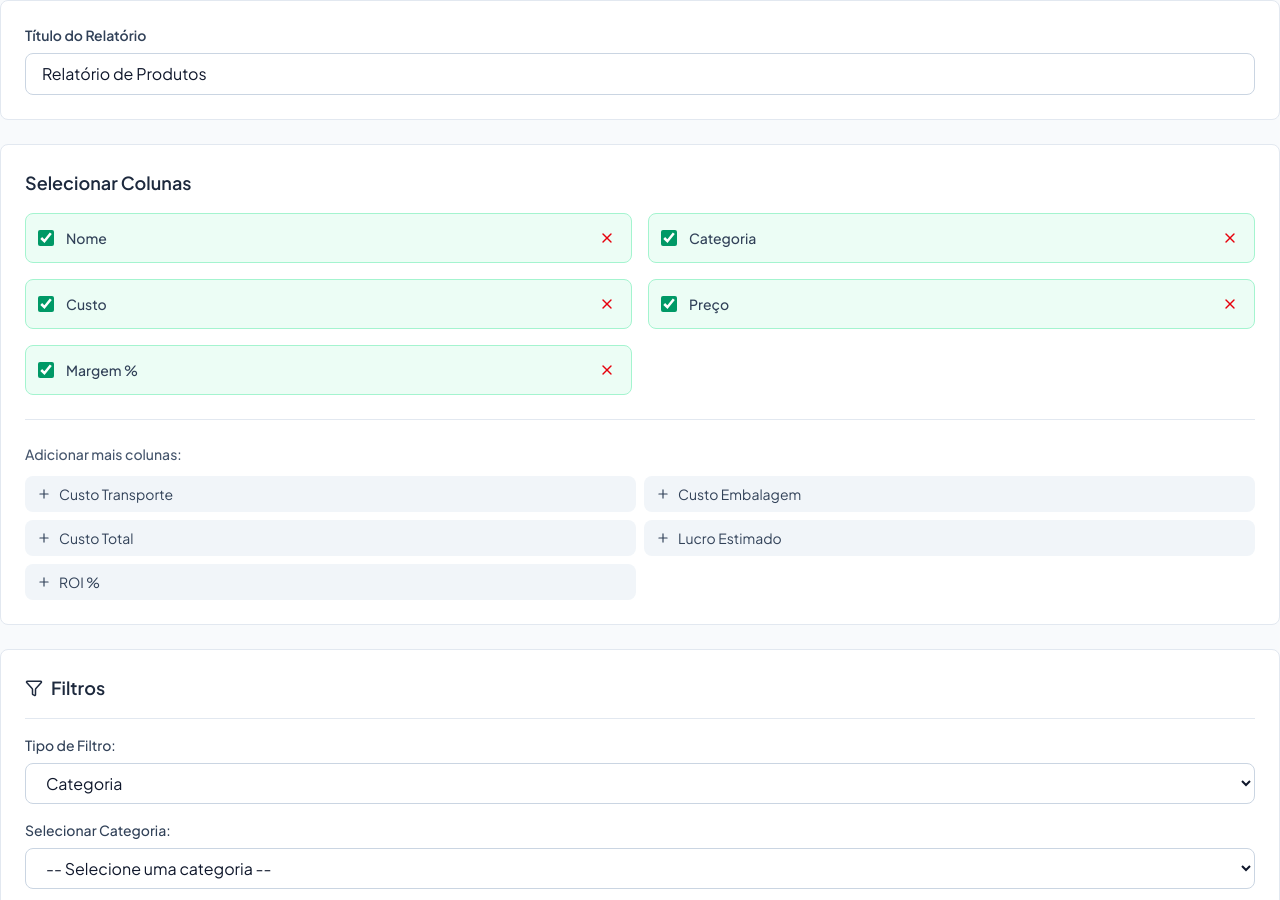
Test: ReportBuilder - Filter Functionality › Adding Filters › should add ROI range filter
Select "Faixa de ROI" in the dropdown below "Tipo de Filtro:" at (640, 784), box top-left (25, 763), bottom-right (1255, 804)
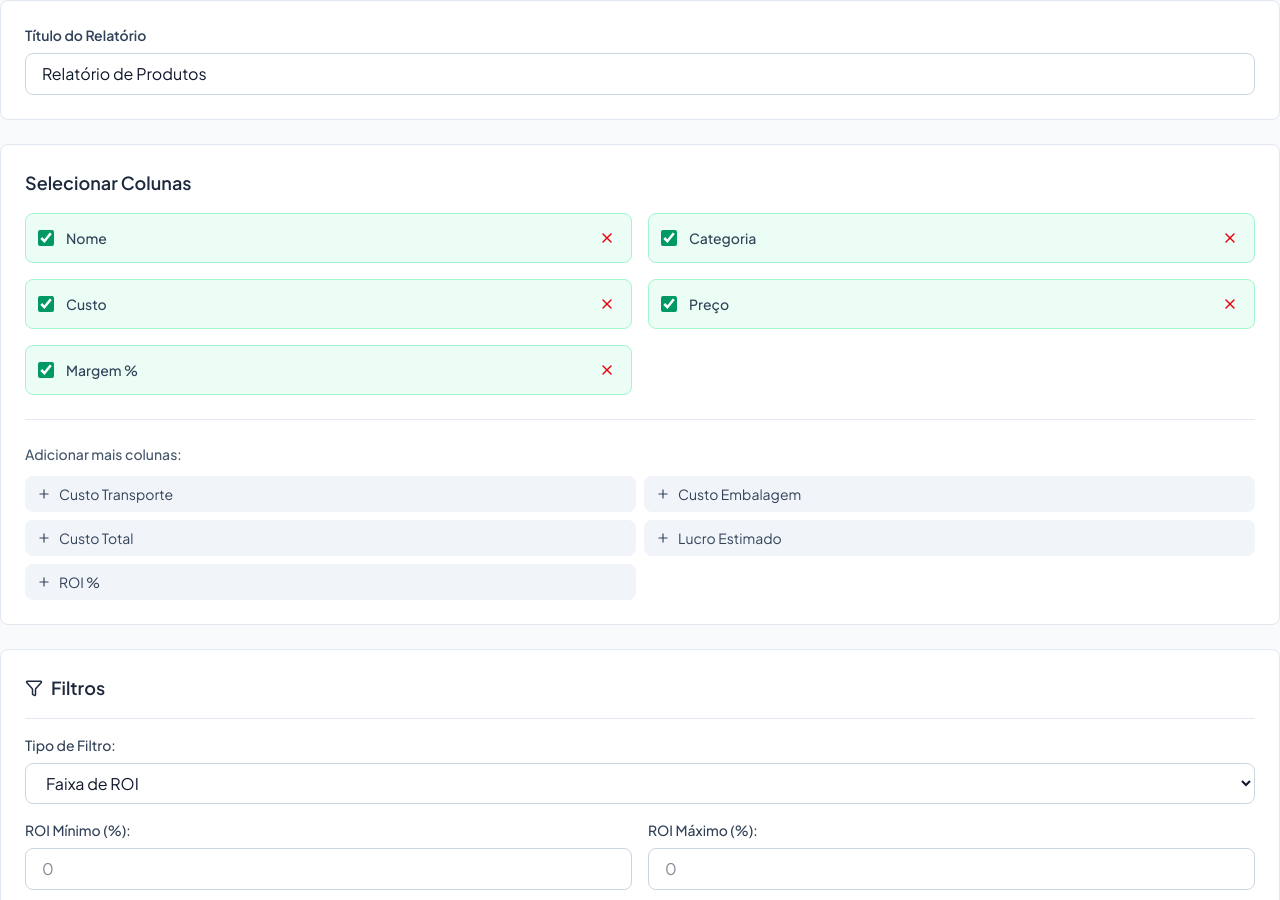
Type "30" into the number field labelled "ROI Mínimo (%):".
click(328, 869); type("30")  # box top-left (25, 848), bottom-right (632, 890)
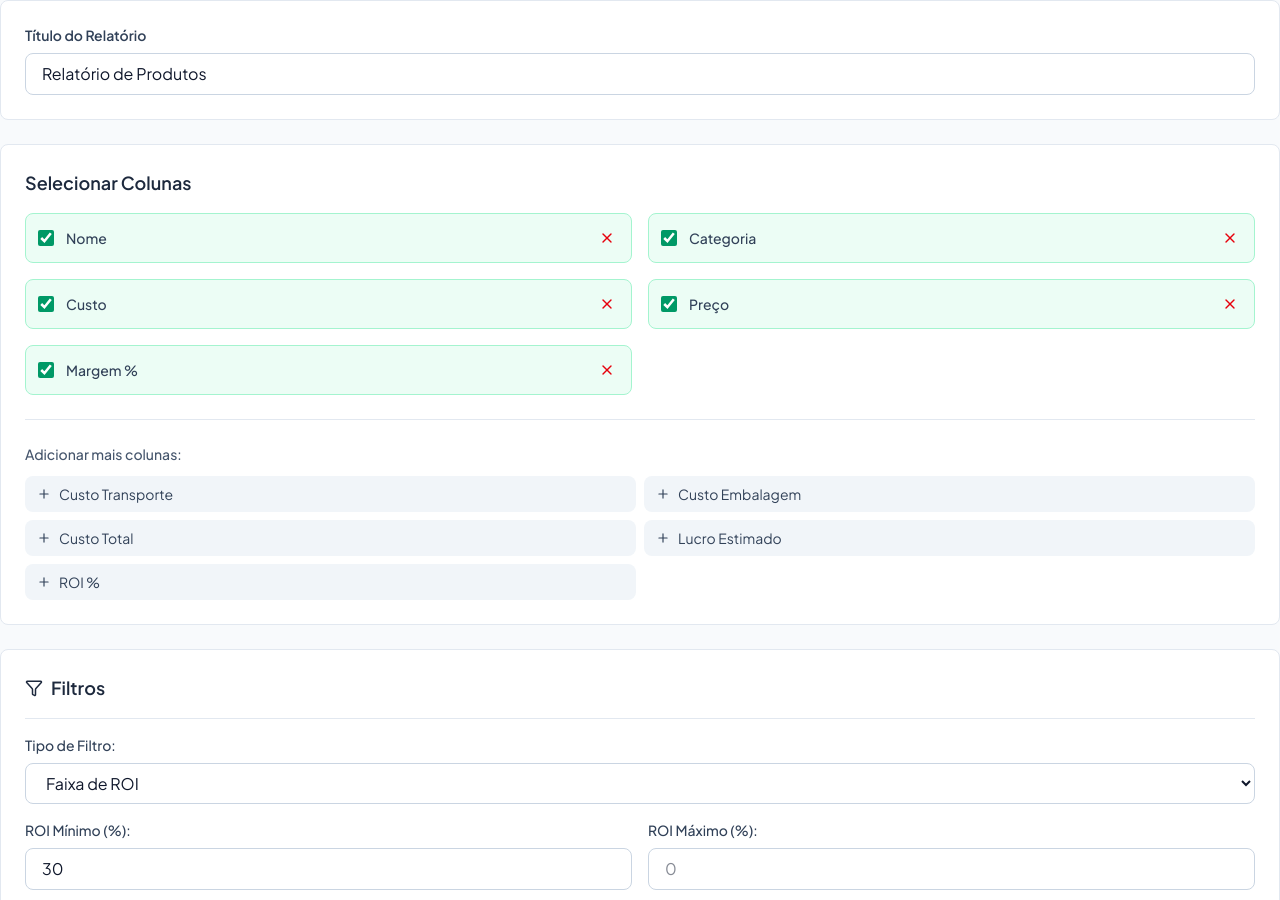
Type "50" into the number field labelled "ROI Máximo (%):".
click(952, 869); type("50")  # box top-left (648, 848), bottom-right (1255, 890)
(page scrolled)
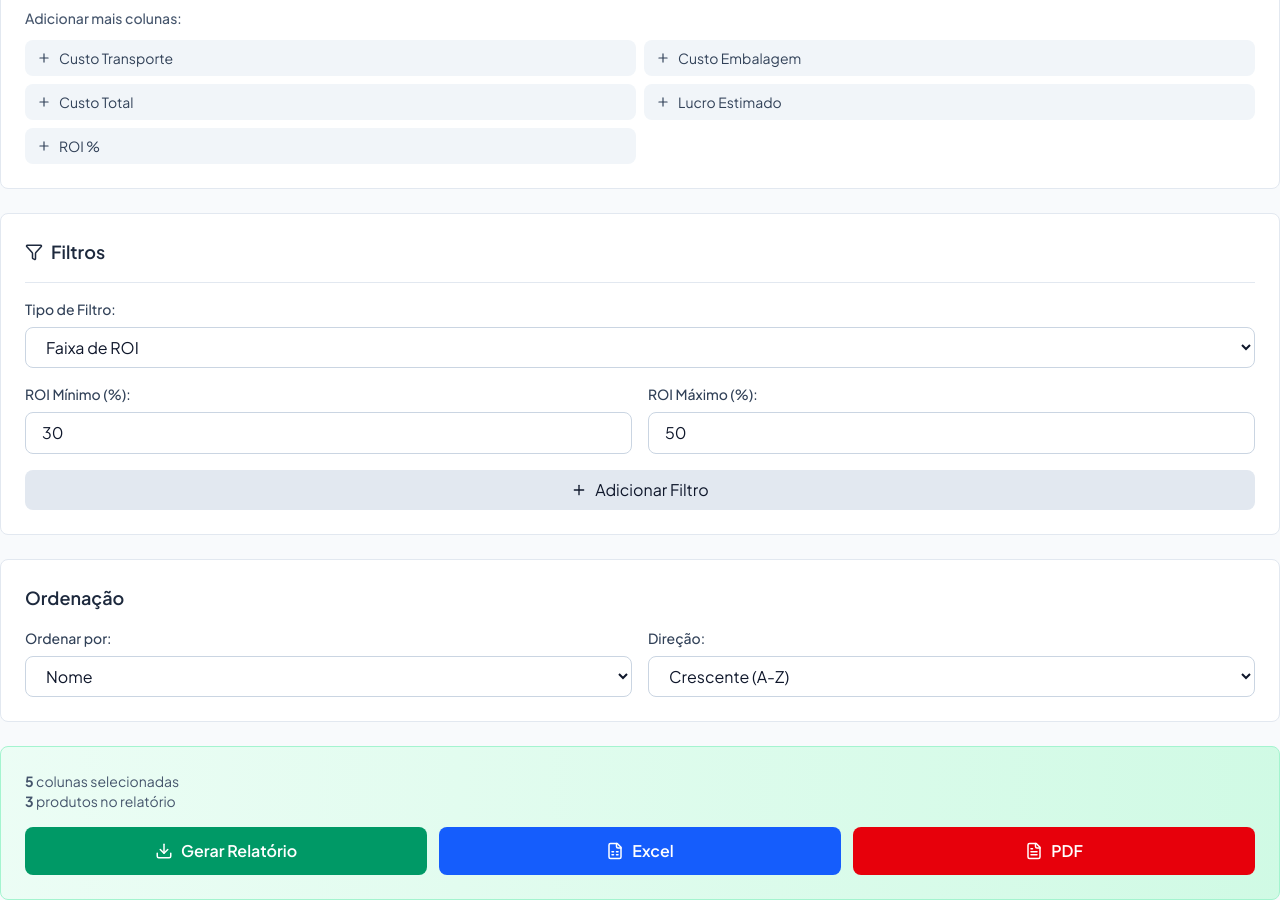
Click the button "Adicionar Filtro".
click(640, 490)  # box top-left (25, 470), bottom-right (1255, 510)
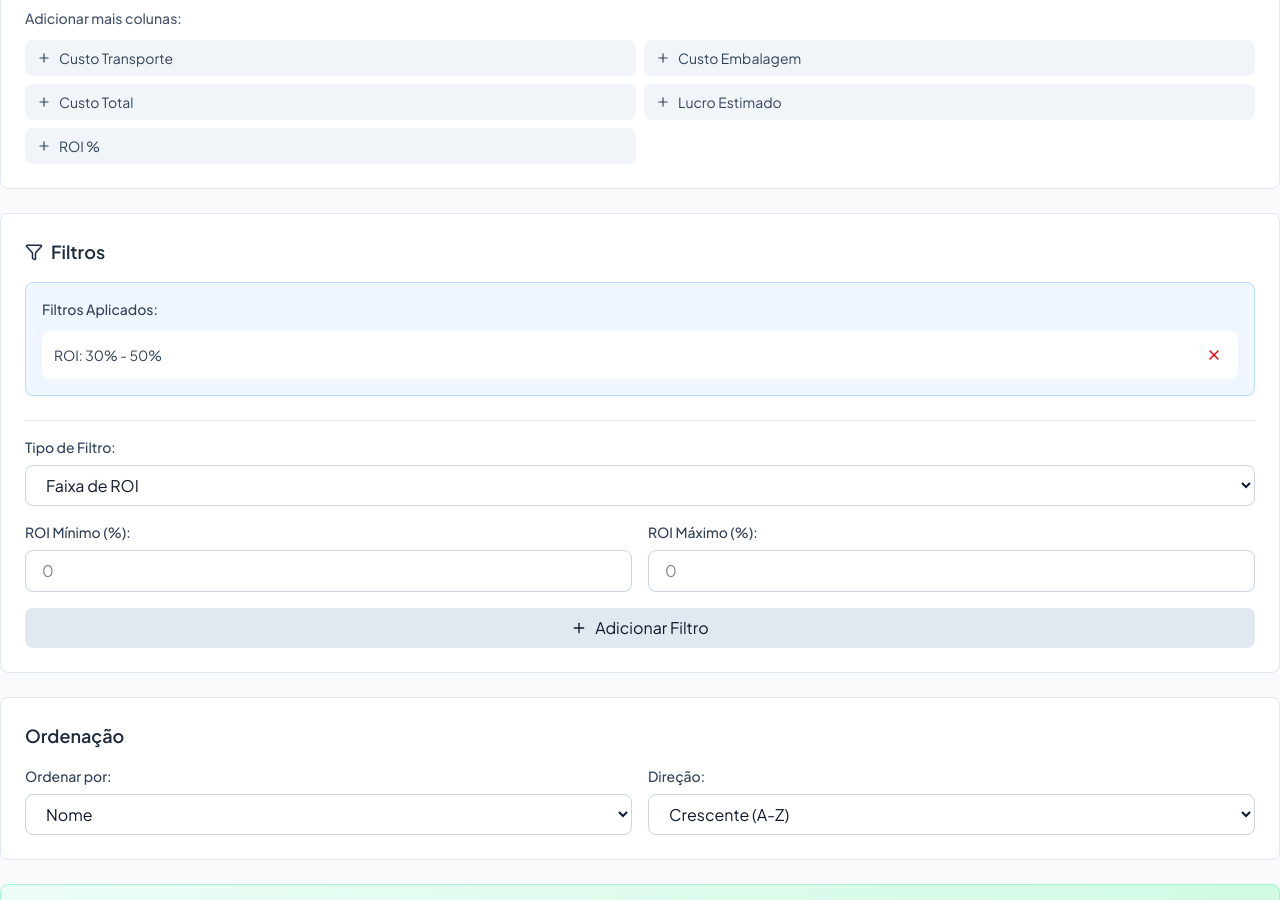
Now the text "ROI: 30% - 50%" is shown, box top-left (54, 345), bottom-right (162, 365)
